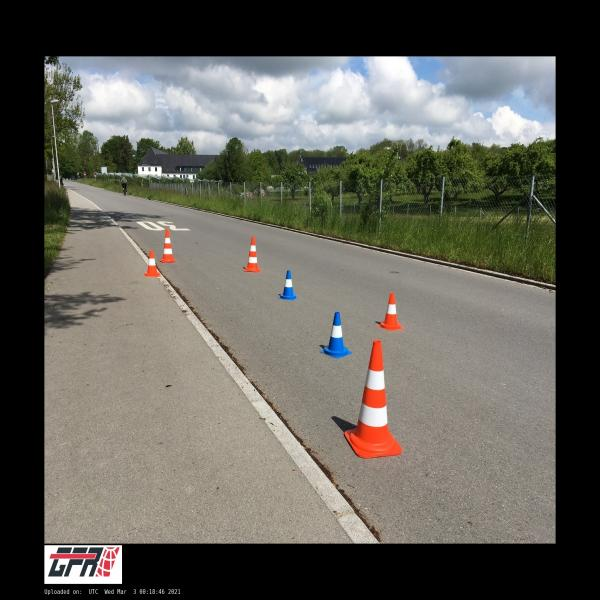blue_cone: (320, 312, 352, 358), (278, 270, 298, 300)
large_orange_cone: (344, 340, 402, 458), (244, 236, 261, 272), (160, 229, 176, 263)
orange_cone: (377, 292, 404, 330), (143, 250, 161, 276)
